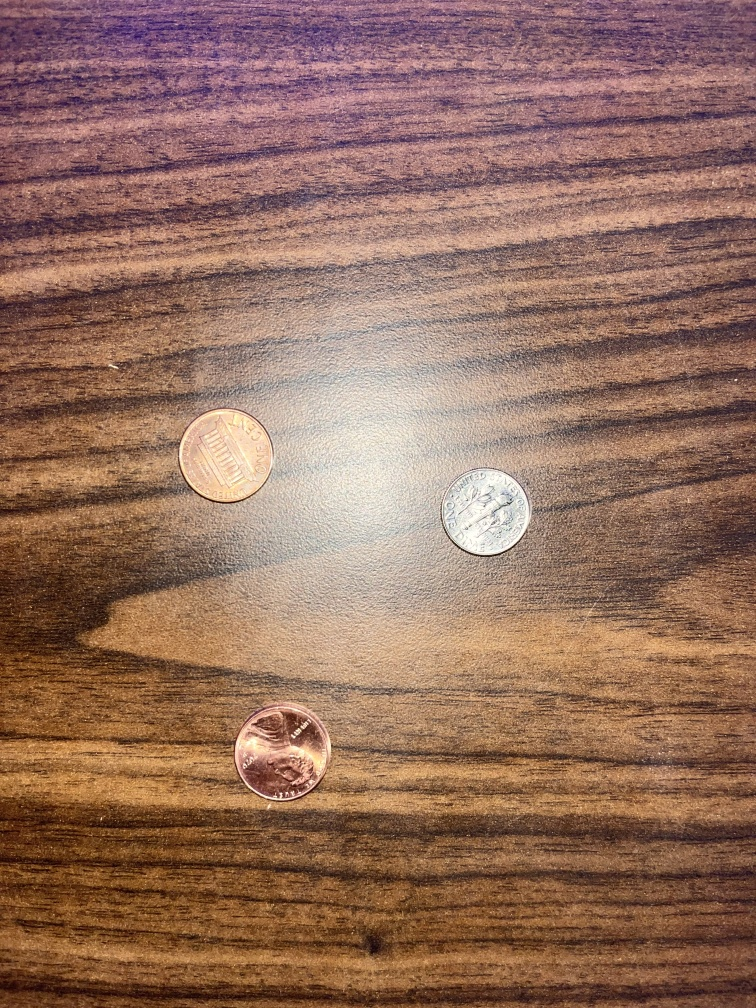dime: (434, 465, 542, 563)
penny: (227, 701, 336, 810), (175, 403, 279, 509)
